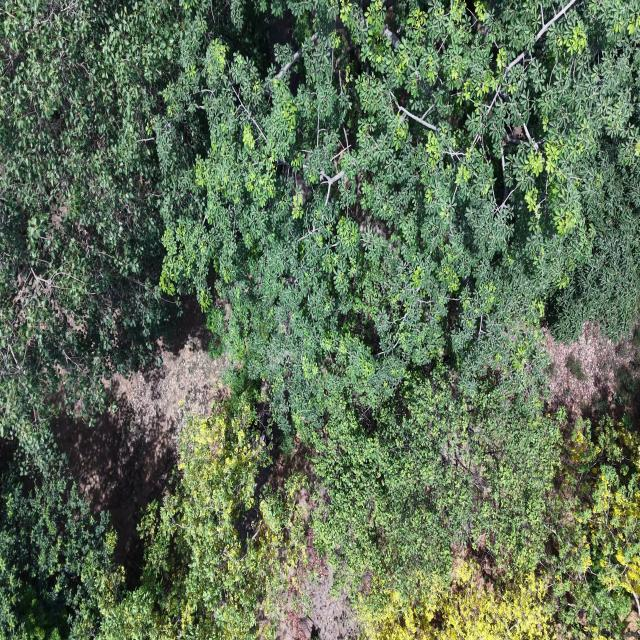DRY_AREA: (52, 328, 229, 586), (53, 327, 229, 576), (52, 335, 228, 575), (546, 323, 639, 429), (546, 323, 639, 422), (276, 529, 359, 639), (276, 566, 359, 639)
VEGETATION_TREE: (0, 0, 639, 638), (161, 2, 638, 632), (161, 3, 638, 434), (0, 0, 179, 639), (0, 0, 179, 437), (101, 397, 304, 639), (0, 439, 121, 639), (544, 419, 639, 636), (362, 561, 554, 639)
